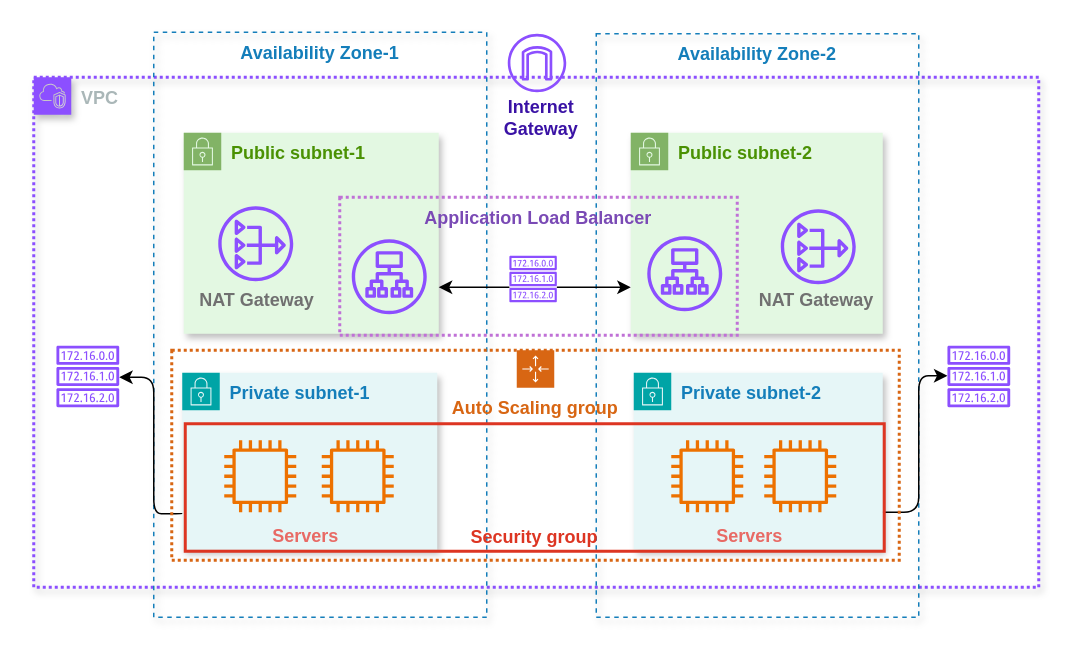
Some shapes in this 1074 by 654 pixel diagram are drawn without their labels. Here are the shapes that lost their labels. From the top down, the centre of each, then its label:
point (532, 278): Public-RT
point (87, 375): Private RT-1
point (978, 375): Private RT-2
